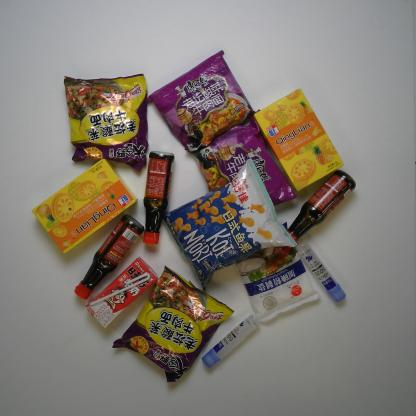Dessert: (29, 156, 139, 257), (252, 86, 347, 193)
Instant Noodles: (109, 264, 237, 385), (142, 47, 262, 155), (185, 112, 301, 210), (60, 71, 154, 176)
Milk: (82, 254, 161, 332)
Puffed Food: (160, 156, 302, 293)
Seasoner: (232, 219, 323, 326), (73, 211, 146, 302), (280, 168, 358, 251), (140, 147, 178, 248)
Stationery: (294, 238, 348, 305), (200, 312, 260, 371)
